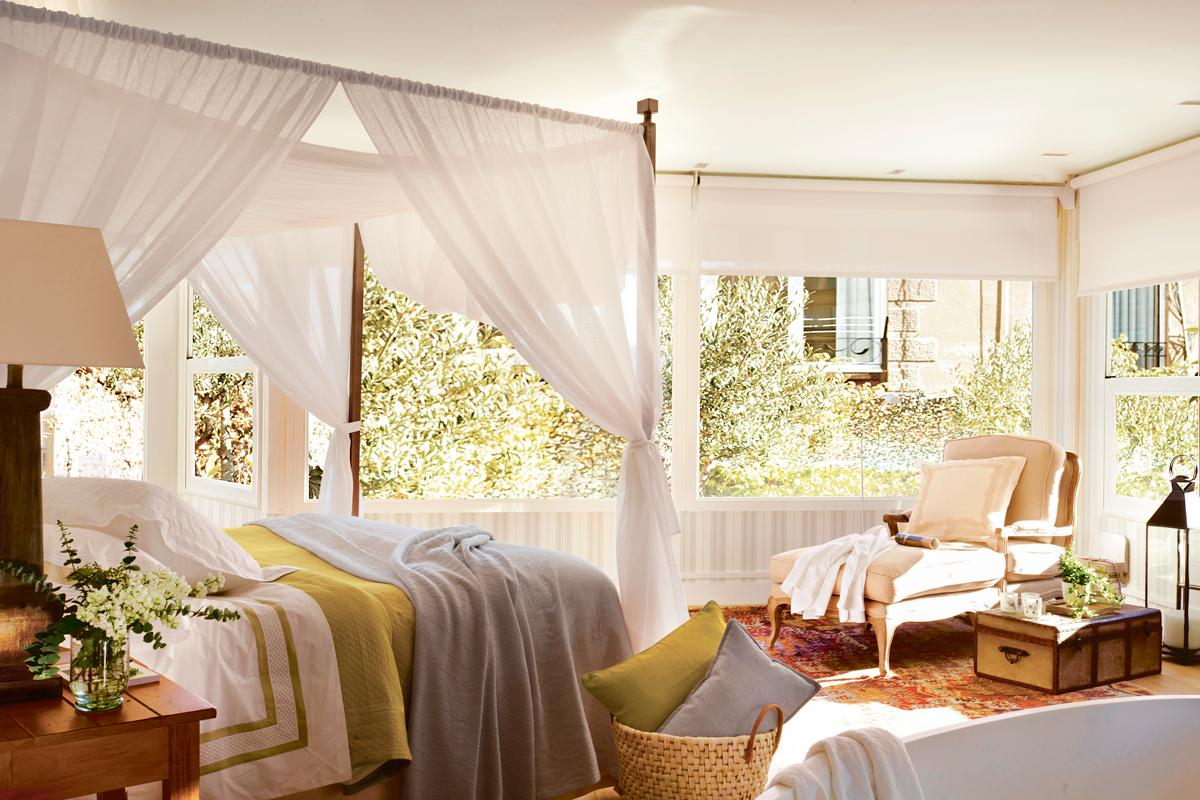bed: (70, 430, 562, 656)
